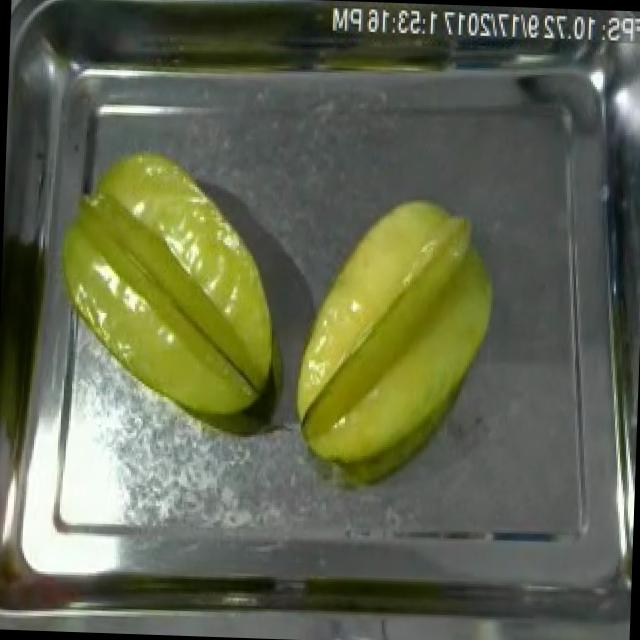fruit: (40, 134, 298, 438), (278, 185, 506, 482)
